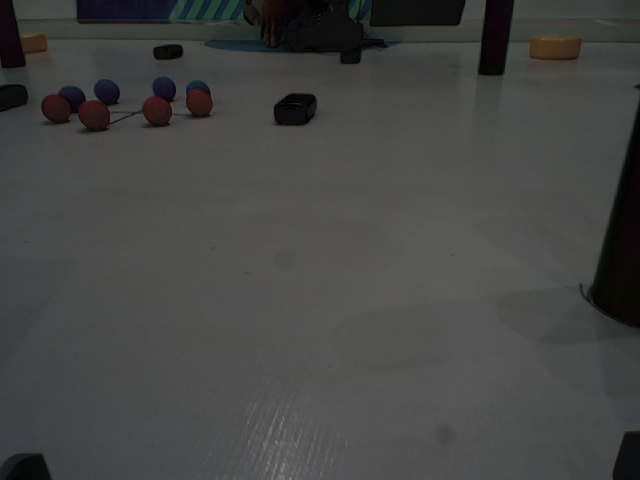black: (274, 91, 316, 124), (1, 83, 31, 114), (151, 43, 185, 58), (337, 46, 362, 66)
blue: (61, 83, 90, 110), (95, 80, 125, 103), (183, 79, 214, 100), (153, 76, 176, 100)
red: (140, 97, 173, 124), (79, 103, 109, 131), (39, 98, 71, 123), (185, 91, 211, 115)
yellow: (527, 33, 585, 56), (14, 33, 49, 54)
zhuzi: (477, 1, 513, 80), (1, 1, 30, 72)
